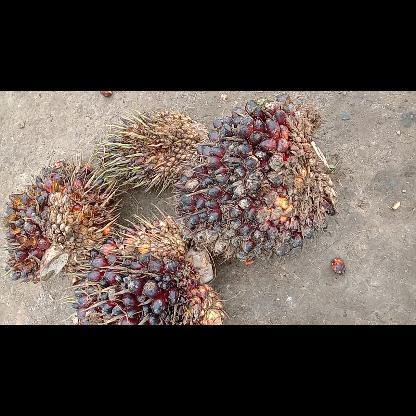Kurang masak: (178, 93, 333, 260), (74, 214, 226, 324)
TBS abnormal: (101, 110, 208, 190)
TBS masak: (6, 162, 118, 282)
